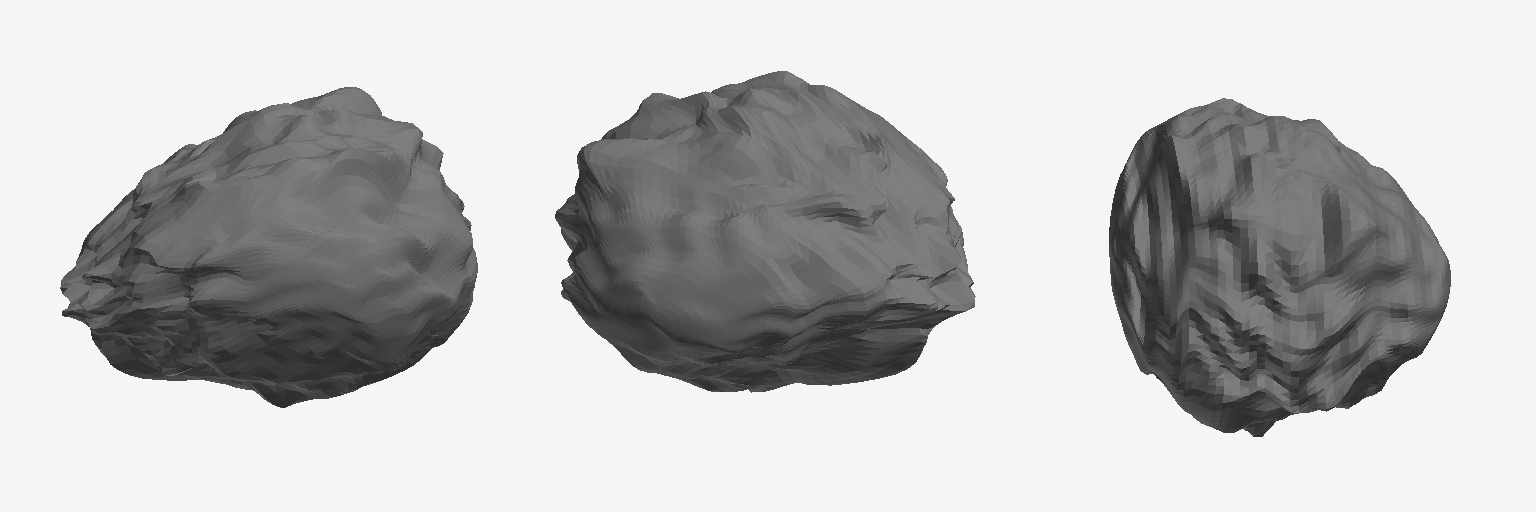
Rendered from MC_Asteroid2.obj.
3 views of the same model, side by side, from view 1: azimuth 30°, elevation 25°; view 2: azimuth 150°, elevation 25°; view 3: azimuth 270°, elevation 25° (orthographic).
Visible parts, largest first — view 1: Sphere01; view 2: Sphere01; view 3: Sphere01.
Boxes of the visible parts, <box> form: Sphere01: <box>60,87,477,407</box>; Sphere01: <box>555,71,975,392</box>; Sphere01: <box>1109,98,1450,436</box>.
Size of the model in its own units: 1.68 by 1.16 by 1.24.